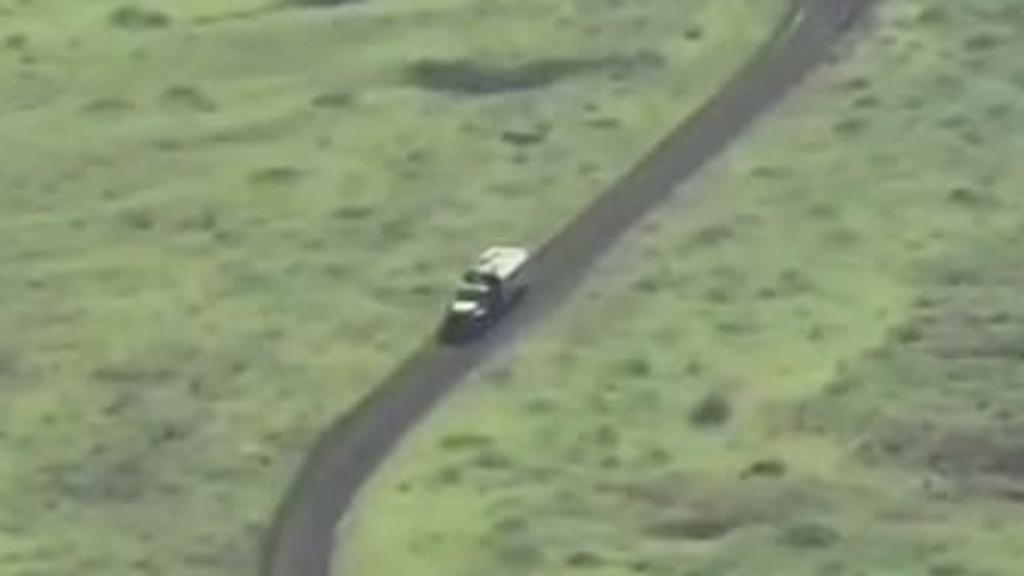TRUCK: (448, 240, 532, 331)
